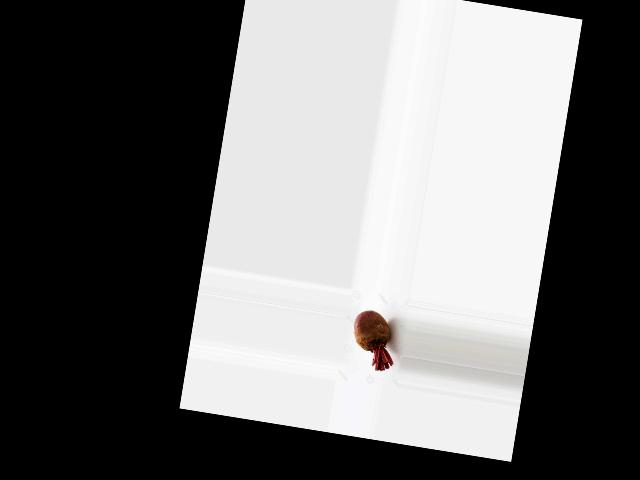beet: (347, 307, 401, 372)
